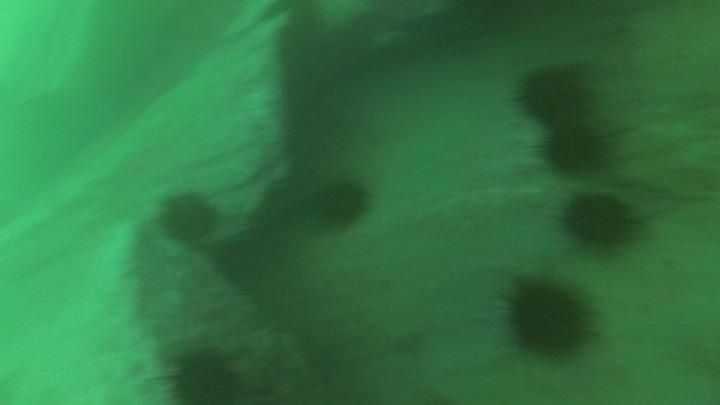echinus: (501, 275, 596, 360), (560, 190, 639, 253), (515, 64, 592, 128), (162, 346, 243, 405), (541, 122, 609, 177), (157, 189, 221, 246), (313, 177, 372, 230)
